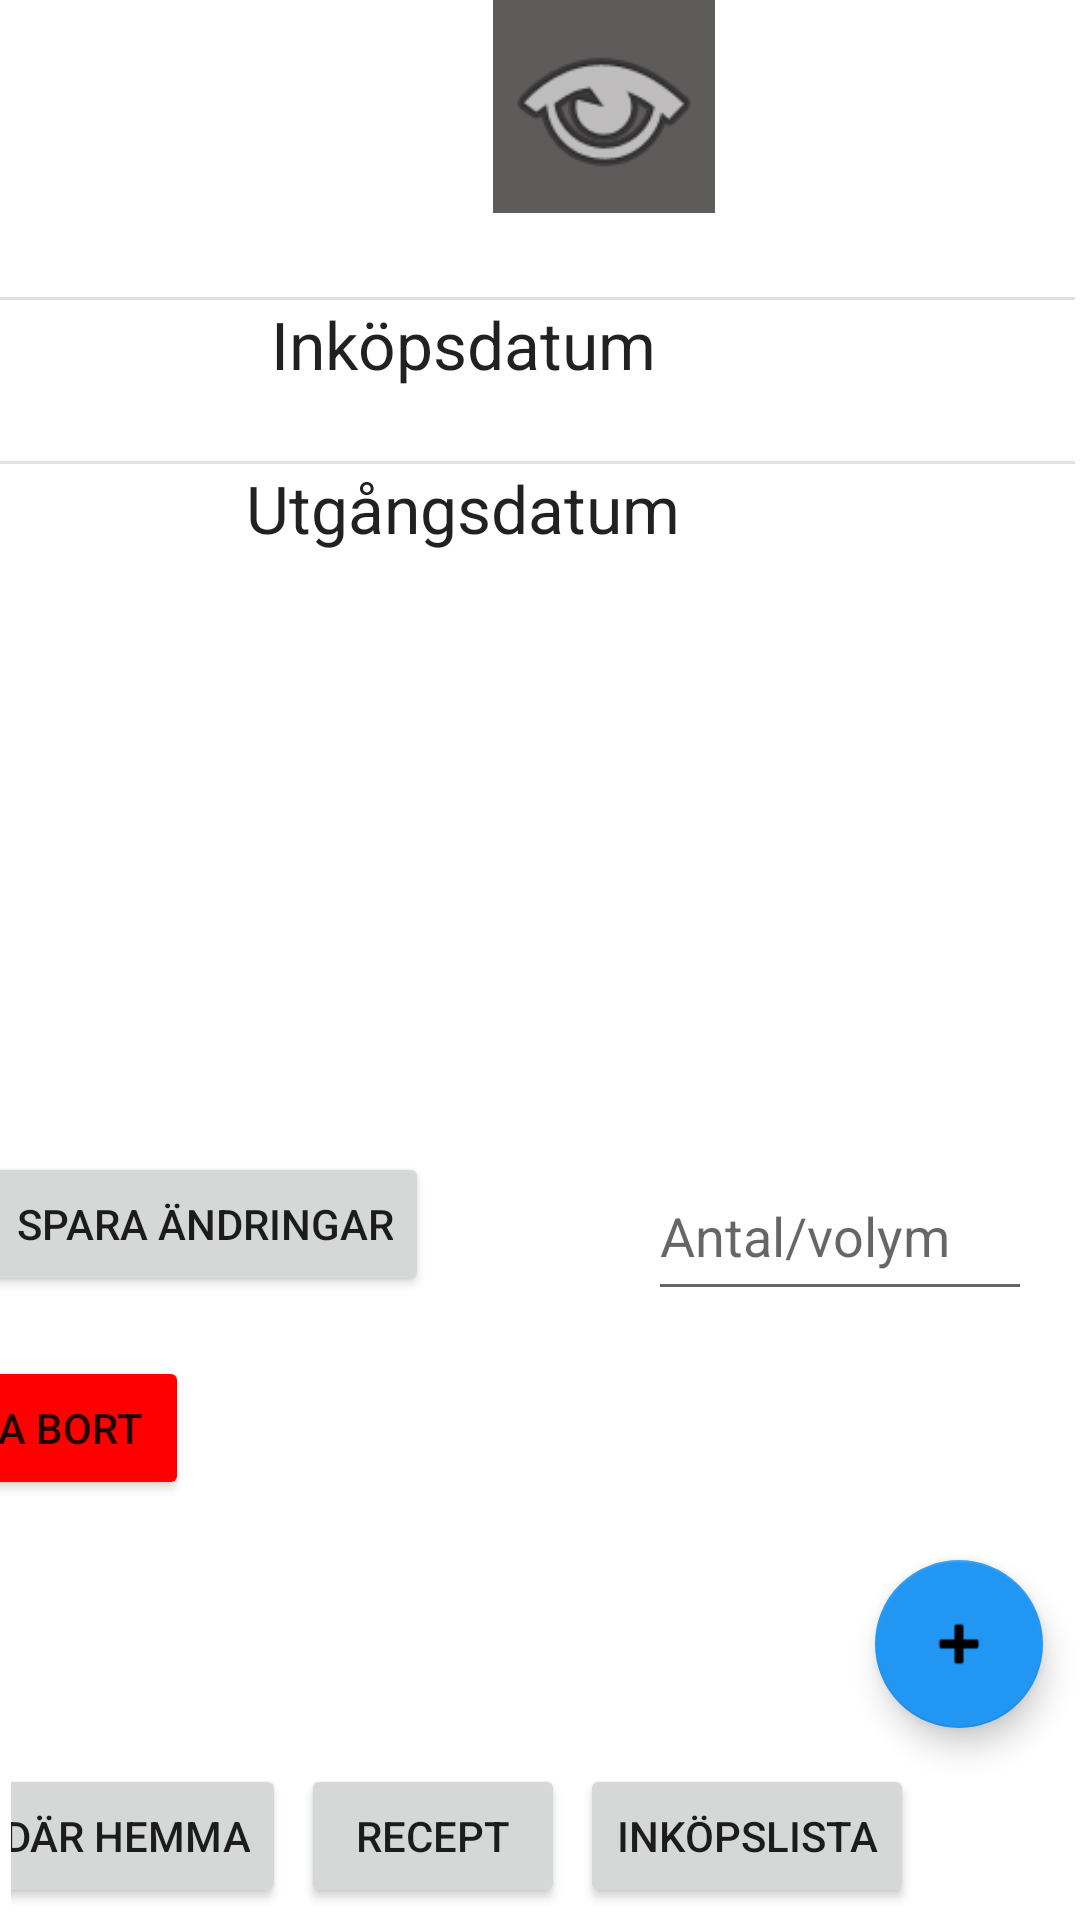

Named icons in this screenshot (1080px x 1920px) and their centers, point (x, y):
add: point (959, 1644)
